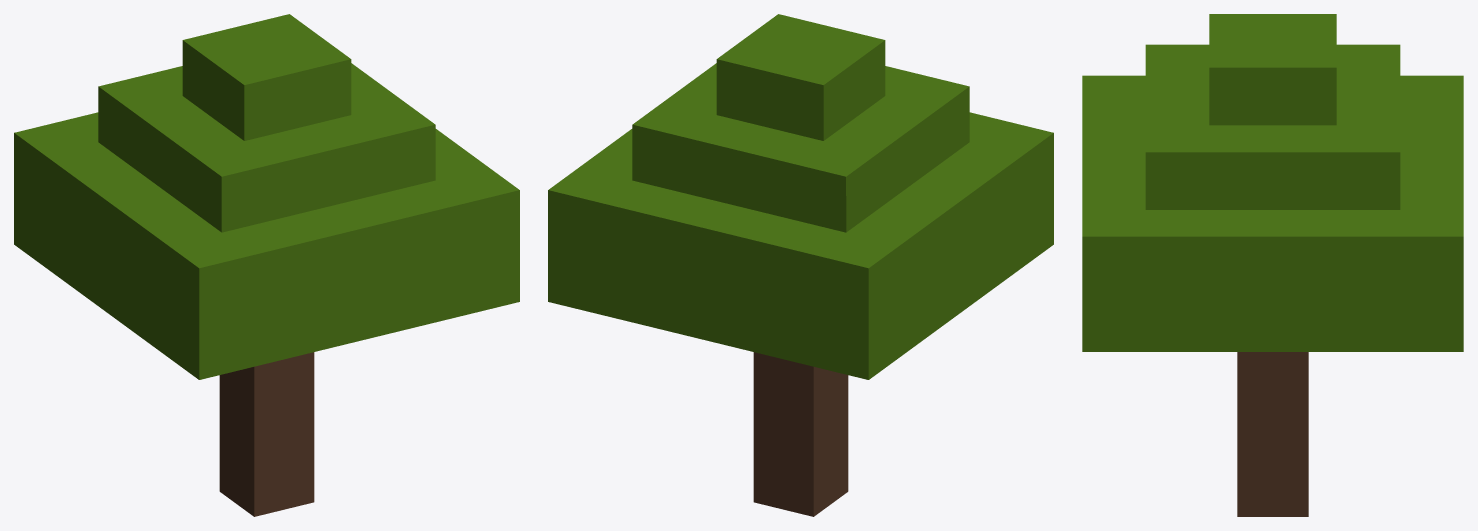
Rendered from tree.fbx.
The picture shows the model from 3 angles, left to right: view 1: azimuth 30°, elevation 25°; view 2: azimuth 150°, elevation 25°; view 3: azimuth 270°, elevation 25°; orthographic projection. The views are drawn at different scales.
Visible parts, largest first — view 1: bigtree +; view 2: bigtree +; view 3: bigtree +.
Part boxes in pixels (box(x1,y1,x2,y2)): bigtree +: box(14, 14, 519, 516); bigtree +: box(548, 14, 1053, 516); bigtree +: box(1082, 14, 1463, 516).
Size of the model in its own units: 300 by 400 by 300.
